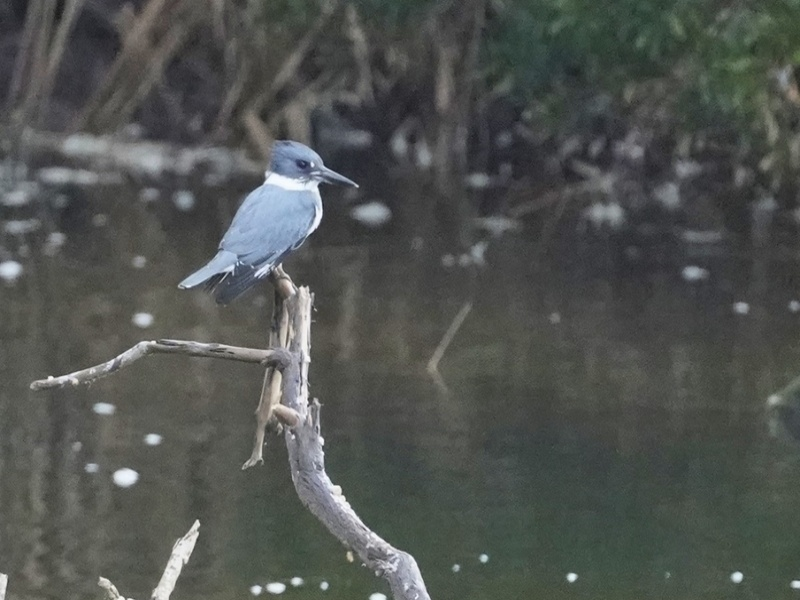kingfisher: (175, 139, 360, 306)
